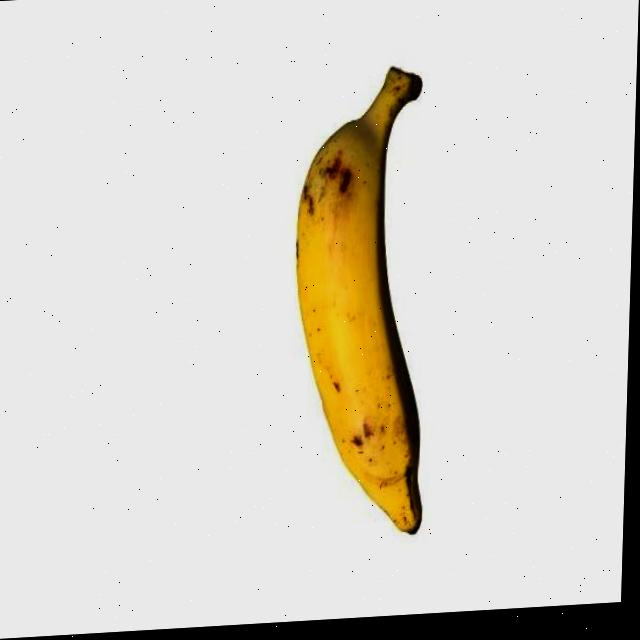banana: (281, 109, 440, 548)
